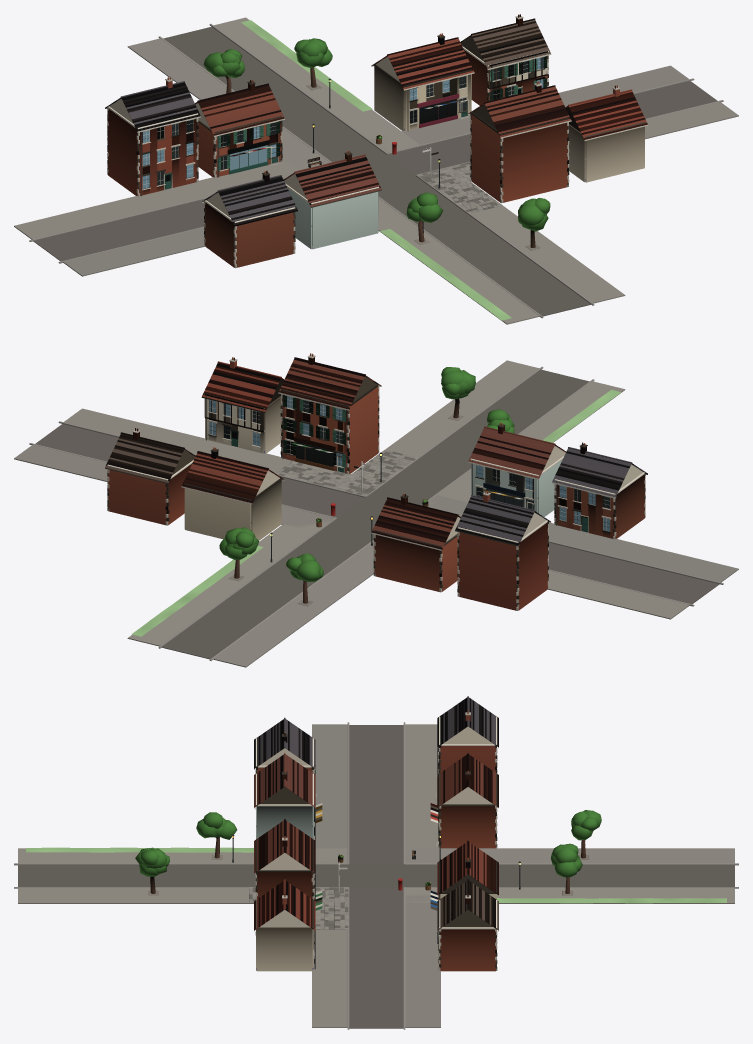
The model's file is street.glb.
3 views of the same model, one above another, from view 1: azimuth 30°, elevation 25°; view 2: azimuth 150°, elevation 25°; view 3: azimuth 270°, elevation 25° (orthographic). The views are drawn at different scales.
Parts seen in each view (by area): view 1: street.pave.1, street.cobble.0, street.brick.17, street.roof.20, street.roof.27, street.brick.23, street.brick.40, street.plaster.38, street.leaf.52, street.plaster.43, street.stone.2, street.roof.31 (+18 smaller); view 2: street.pave.1, street.cobble.0, street.brick.17, street.brick.23, street.roof.20, street.roof.27, street.plaster.30, street.brick.32, street.stone.2, street.leaf.52, street.brick.40, street.roof.31 (+18 smaller); view 3: street.pave.1, street.cobble.0, street.roof.20, street.roof.27, street.plaster.22, street.brick.17, street.stone.2, street.leaf.52, street.plaster.43, street.brick.32, street.terrain.58, street.roof.31 (+9 smaller).
Part boxes in pixels (x1,y1,x2,y2): street.pave.1: (14, 17, 738, 324); street.cobble.0: (33, 27, 717, 316); street.brick.17: (198, 114, 567, 202); street.roof.20: (195, 83, 570, 137); street.roof.27: (105, 81, 297, 225); street.brick.23: (108, 18, 619, 195); street.brick.40: (205, 202, 294, 267); street.plaster.38: (287, 187, 378, 249); street.leaf.52: (203, 38, 550, 231); street.plaster.43: (568, 126, 644, 182); street.stone.2: (29, 24, 723, 318); street.roof.31: (371, 37, 473, 89); street.pave.1: (14, 360, 738, 667); street.cobble.0: (35, 369, 719, 659); street.brick.17: (282, 387, 457, 591); street.brick.23: (133, 357, 586, 610); street.roof.20: (279, 357, 460, 549); street.roof.27: (455, 447, 647, 545); street.plaster.30: (184, 480, 281, 540); street.brick.32: (108, 464, 191, 525); street.stone.2: (29, 366, 723, 660); street.leaf.52: (219, 367, 514, 581); street.brick.40: (555, 475, 644, 538); street.roof.31: (182, 451, 284, 503); street.pave.1: (18, 724, 734, 1027); street.cobble.0: (18, 725, 734, 1028); street.roof.20: (254, 753, 498, 873); street.roof.27: (254, 696, 498, 768); street.plaster.22: (260, 726, 492, 927); street.brick.17: (257, 806, 495, 898); street.stone.2: (14, 722, 738, 1029); street.leaf.52: (135, 810, 601, 877); street.plaster.43: (256, 929, 313, 971); street.brick.32: (439, 929, 495, 971); street.terrain.58: (26, 847, 726, 903); street.roof.31: (437, 840, 498, 895).
Size of the model in its own units: 91 by 12.86 by 91.
